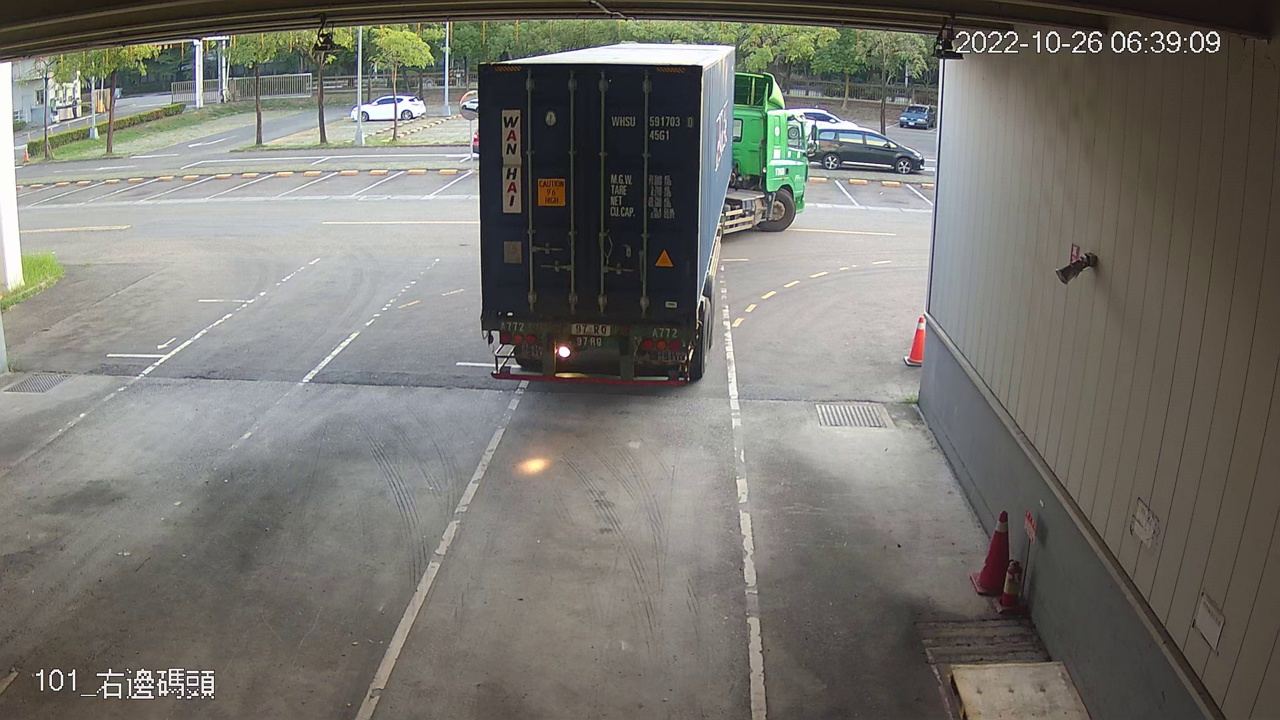container: (607, 111, 697, 144)
